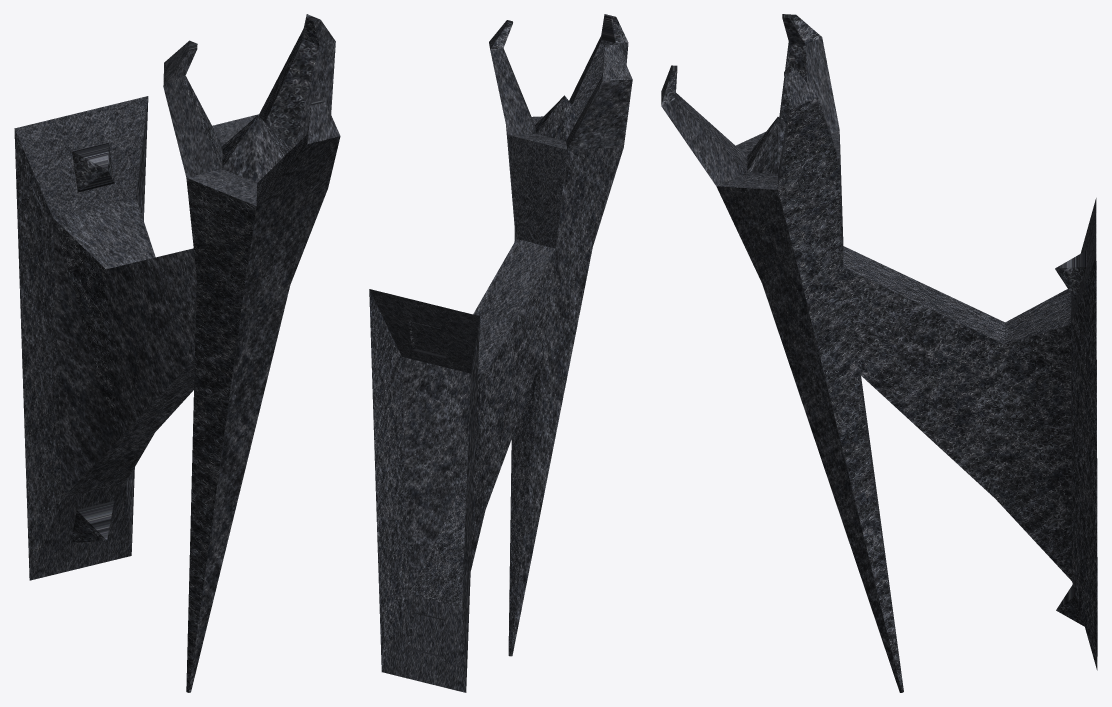
File: mm9_deco_torchmetalunlit.glb
3 renders of one model, left to right at view 1: azimuth 30°, elevation 25°; view 2: azimuth 150°, elevation 25°; view 3: azimuth 270°, elevation 25°, orthographic. The views are drawn at different scales.
Parts seen in each view (by area): view 1: Torchmetalunlit; view 2: Torchmetalunlit; view 3: Torchmetalunlit.
Boxes of the visible parts, bbox=[...] form: Torchmetalunlit: bbox=[14, 14, 340, 692]; Torchmetalunlit: bbox=[369, 14, 632, 692]; Torchmetalunlit: bbox=[661, 14, 1097, 692].
Bounding box in the file's own units: 0.2453 × 0.9591 × 0.5817.
Materials: 1 (1 with a texture image).
